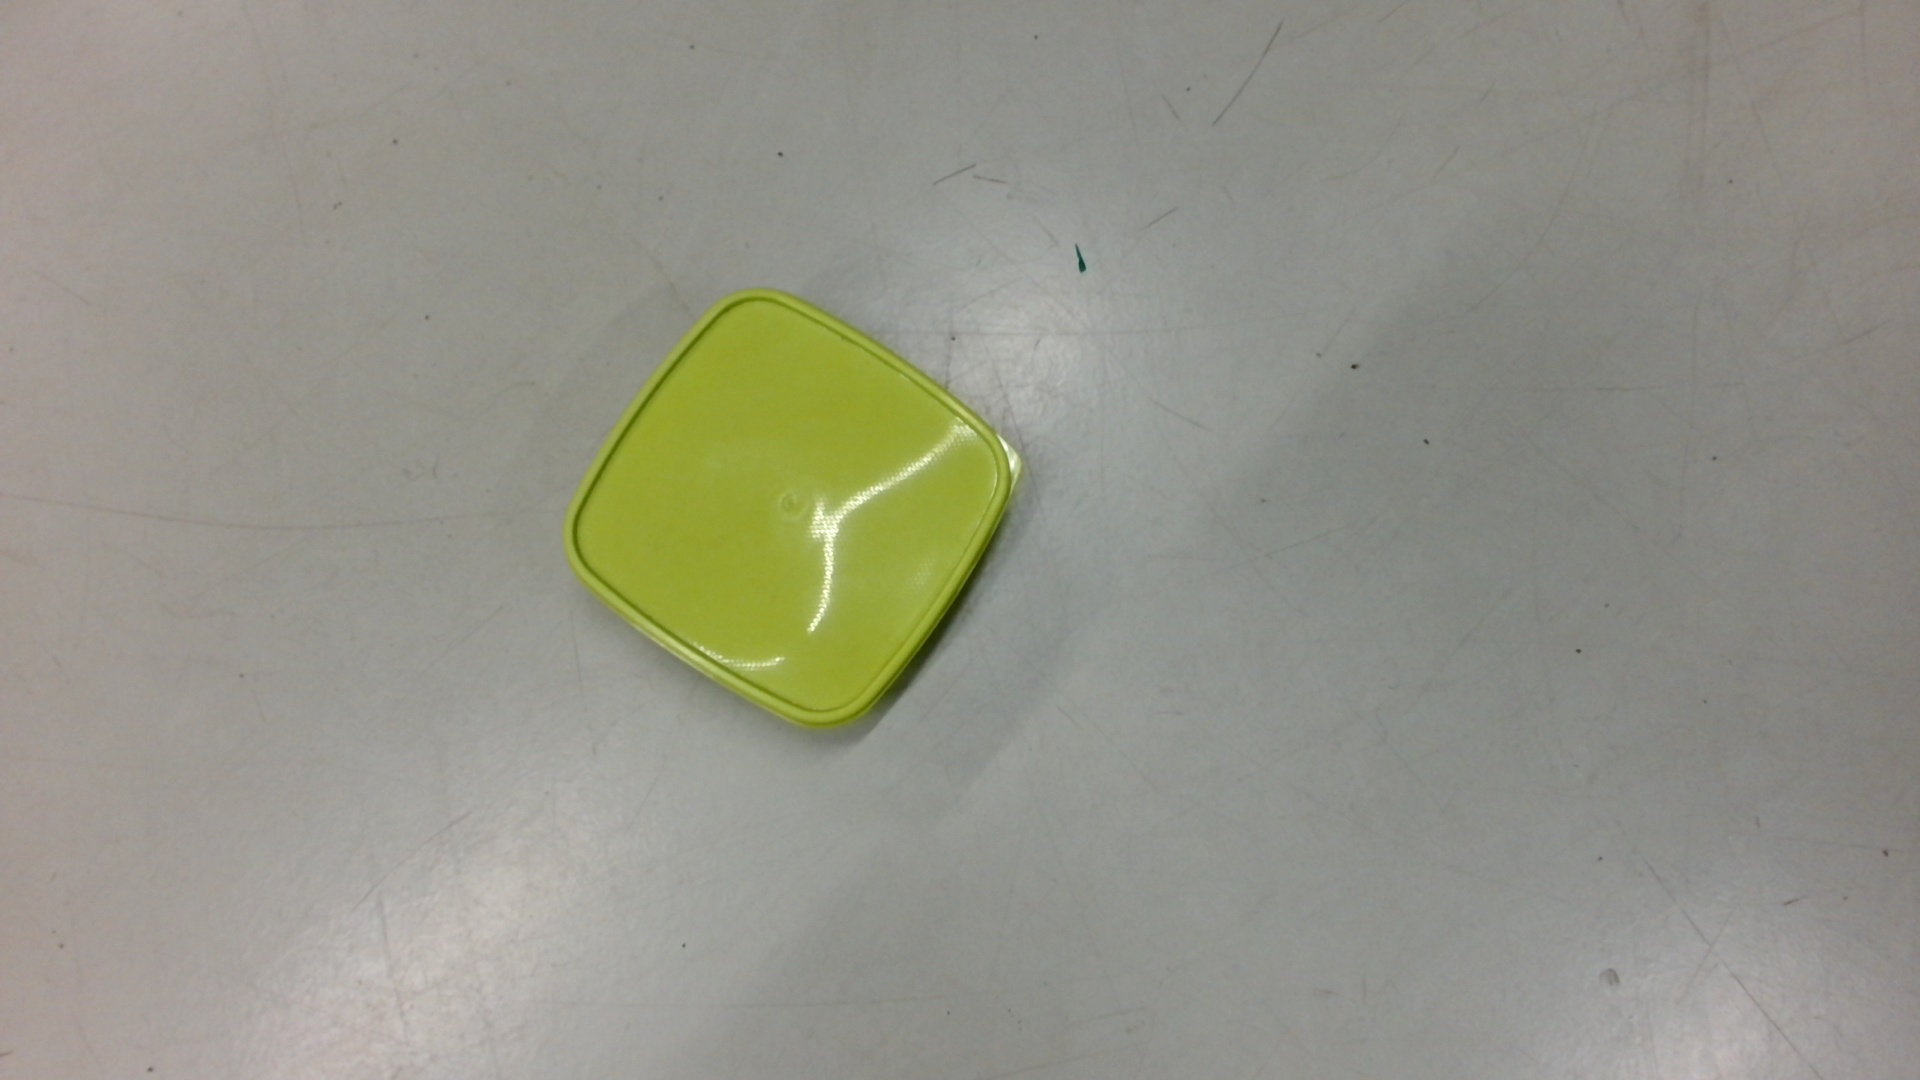Box: (559, 284, 1027, 740)
